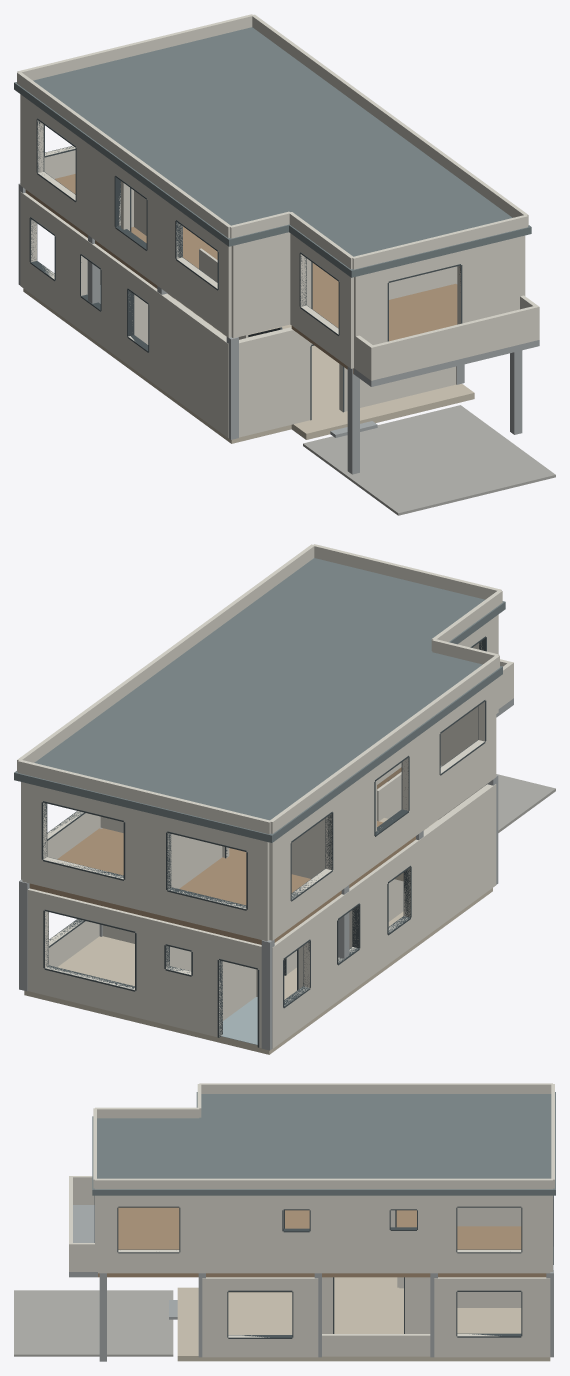
File: House2163_Shell.fbx
The picture shows the model from 3 angles, top to bottom: view 1: azimuth 30°, elevation 25°; view 2: azimuth 150°, elevation 25°; view 3: azimuth 270°, elevation 25°; orthographic projection. The views are drawn at different scales.
Visible parts, largest first — view 1: Roof_Main, Parking_5.25x5.5, Roof_Master, Left_Pier0, Front_Pier0, Balcony_Front_Parapet, Upper_FrontLeft_End, Master_Balcony_End, RoofRight_End, Upper_Left_Pier2, Master_Slab, RoofLeft_End (+33 smaller); view 2: Roof_Main, Roof_Master, Left_Pier0, Ground_Slab, Upper_Main_Slab, RoofRight_End, Upper_Left_Pier2, Upper_Rear_Pier1, RoofLeft_End, RoofRear_End, Upper_Left_Pier1, Rear_Pier2 (+38 smaller); view 3: Roof_Main, Ground_Slab, Parking_5.25x5.5, Upper_Right_Pier1, Roof_Master, Upper_Right_Pier2, RoofRight_End, Upper_Main_Slab, RoofLeft_End, Upper_Right_Pier3, Master_Slab, Side_Terrace_Parapet (+34 smaller).
Part boxes in pixels (left/top/right/bottom): Roof_Main: left=14, top=27, right=463, bottom=246; Parking_5.25x5.5: left=303, top=405, right=555, bottom=515; Roof_Master: left=289, top=182, right=531, bottom=277; Left_Pier0: left=148, top=285, right=228, bottom=438; Front_Pier0: left=239, top=327, right=311, bottom=437; Balcony_Front_Parapet: left=370, top=305, right=539, bottom=380; Upper_FrontLeft_End: left=231, top=232, right=290, bottom=338; Master_Balcony_End: left=457, top=236, right=523, bottom=324; RoofRight_End: left=252, top=14, right=528, bottom=225; Upper_Left_Pier2: left=76, top=135, right=120, bottom=254; Master_Slab: left=291, top=283, right=457, bottom=373; RoofLeft_End: left=17, top=72, right=231, bottom=238; Roof_Main: left=14, top=605, right=502, bottom=842; Roof_Master: left=250, top=558, right=505, bottom=648; Left_Pier0: left=404, top=784, right=496, bottom=947; Ground_Slab: left=24, top=888, right=492, bottom=1054; Upper_Main_Slab: left=29, top=767, right=401, bottom=926; RoofRight_End: left=17, top=544, right=314, bottom=771; Upper_Left_Pier2: left=325, top=768, right=374, bottom=896; Upper_Rear_Pier1: left=124, top=807, right=171, bottom=916; RoofLeft_End: left=270, top=655, right=499, bottom=833; RoofRear_End: left=18, top=759, right=271, bottom=834; Upper_Left_Pier1: left=402, top=720, right=440, bottom=840; Rear_Pier2: left=135, top=914, right=169, bottom=1024; Roof_Main: left=196, top=1092, right=555, bottom=1195; Ground_Slab: left=202, top=1277, right=550, bottom=1361; Parking_5.25x5.5: left=14, top=1290, right=173, bottom=1356; Upper_Right_Pier1: left=179, top=1195, right=283, bottom=1273; Roof_Master: left=92, top=1116, right=196, bottom=1195; Upper_Right_Pier2: left=309, top=1195, right=390, bottom=1273; RoofRight_End: left=95, top=1178, right=552, bottom=1189; Upper_Main_Slab: left=206, top=1210, right=546, bottom=1277; RoofLeft_End: left=199, top=1083, right=552, bottom=1093; Upper_Right_Pier3: left=417, top=1195, right=457, bottom=1273; Master_Slab: left=98, top=1207, right=198, bottom=1277; Side_Terrace_Parapet: left=322, top=1334, right=430, bottom=1356.
Bounding box in the file's own units: 800 × 705 × 1870.
